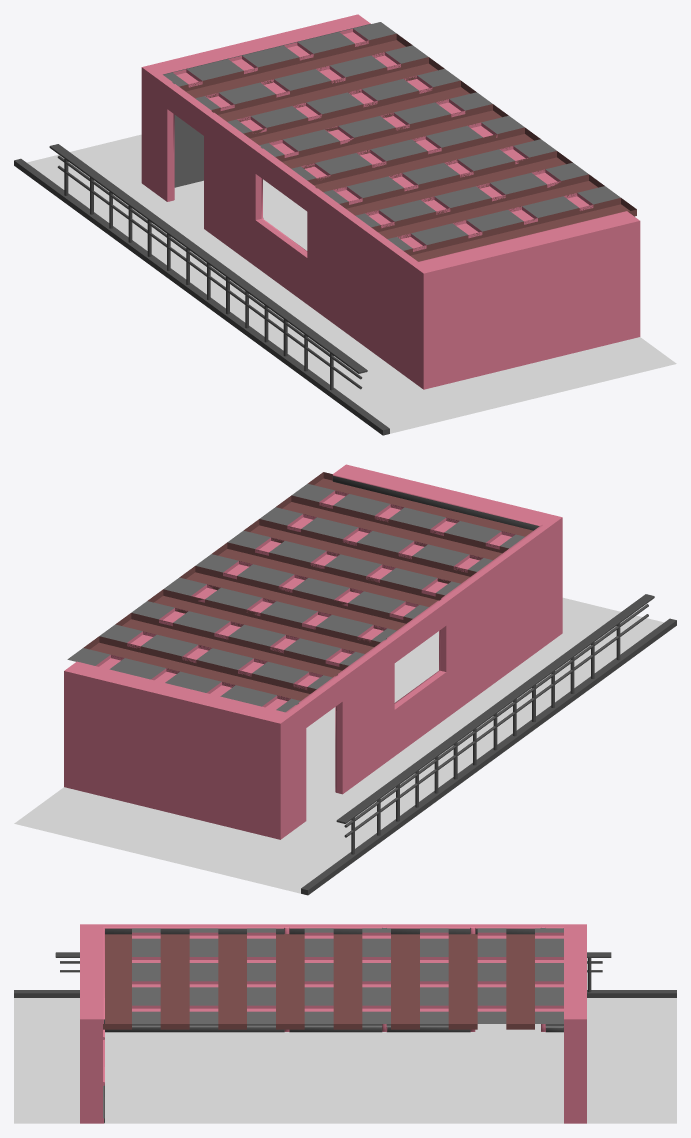
Rendered from Main.fbx.
3 views of the same model, one above another, from view 1: azimuth 30°, elevation 25°; view 2: azimuth 150°, elevation 25°; view 3: azimuth 270°, elevation 25° (orthographic). The views are drawn at different scales.
Visible parts, largest first — view 1: Cube; view 2: Cube; view 3: Cube.
Part boxes in pixels (x1,y1,x2,y2): Cube: [14, 14, 676, 435]; Cube: [14, 464, 676, 895]; Cube: [14, 924, 676, 1123].
Size of the model in its own units: 275 by 100 by 576.
